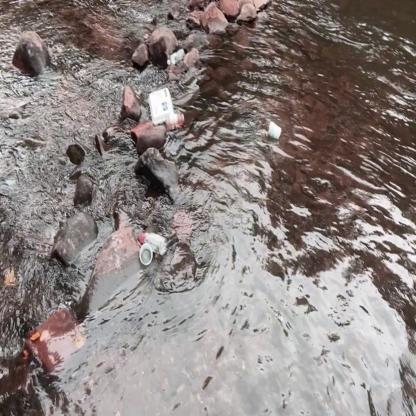Metal: (265, 119, 282, 143)
Plastic: (146, 84, 186, 130), (137, 229, 168, 264)
